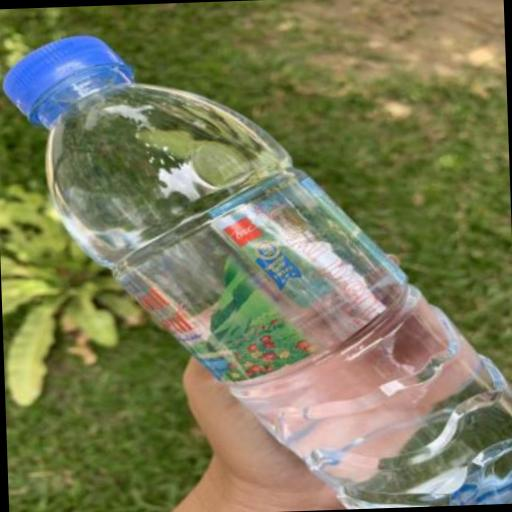Coca: (0, 10, 512, 512)
